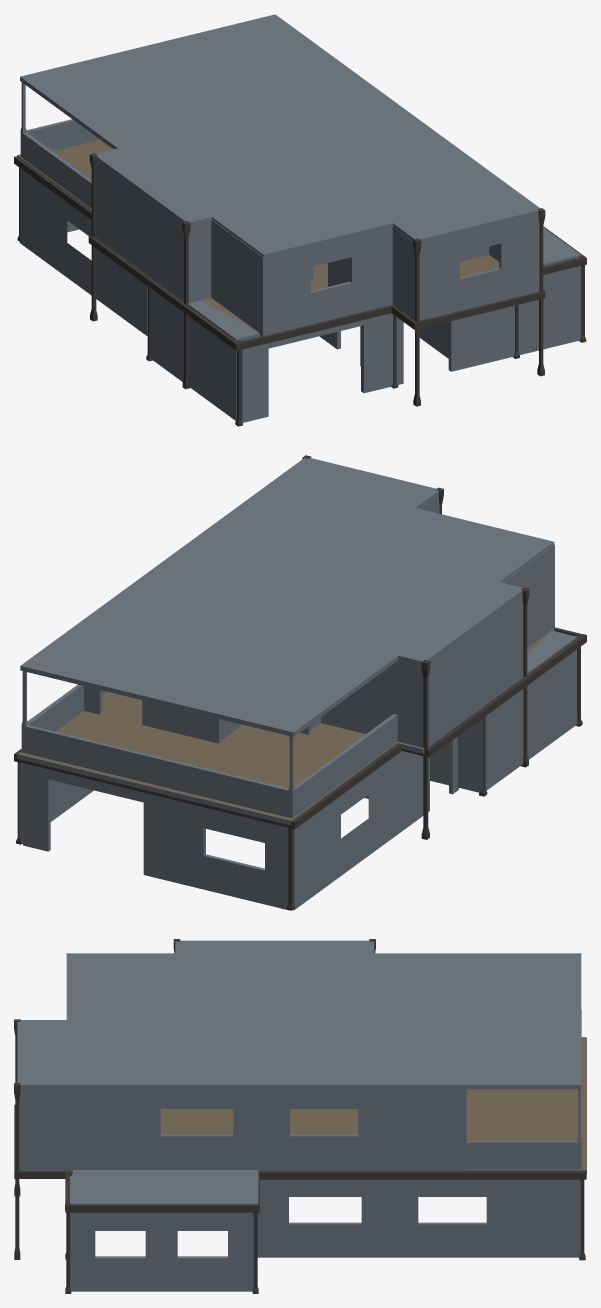
The model's file is BuildingSeparatedUPDATED.fbx.
3 renders of one model, top to bottom at view 1: azimuth 30°, elevation 25°; view 2: azimuth 150°, elevation 25°; view 3: azimuth 270°, elevation 25°, orthographic. The views are drawn at different scales.
Parts seen in each view (by area): view 1: Roof1, Wall_2_Doors, Wall_2_Windows4, Wall_2_Windows3, Wall_1_Window_1_Door, Wall7, Wall, Roof, Wall8, Balcony_Railing, Wall6, Wall11 (+10 smaller); view 2: Roof1, Roof, Wall_1_Window_1_Door1, Balcony_Railing, Wall_1_Window_1_Door, Wall7, Wall, Wall13, Wall8, Wall_1_Door2, Wall2, DecorativeBeam9 (+5 smaller); view 3: Roof1, Wall_2_Windows2, Wall_2_Windows1, Roof, Wall_2_Windows, Balcony_Railing, DecorativeBeam7, DecorativeBeam5, Support15.
Part boxes in pixels (left/top/right/bottom): Roof1: left=20, top=14, right=540, bottom=257; Wall_2_Doors: left=241, top=266, right=580, bottom=422; Wall_2_Windows4: left=266, top=227, right=392, bottom=335; Wall_2_Windows3: left=414, top=215, right=539, bottom=320; Wall_1_Window_1_Door: left=20, top=168, right=147, bottom=335; Wall7: left=95, top=160, right=183, bottom=300; Wall: left=150, top=288, right=236, bottom=420; Roof: left=17, top=139, right=581, bottom=340; Wall8: left=211, top=219, right=266, bottom=336; Balcony_Railing: left=20, top=82, right=99, bottom=208; Wall6: left=188, top=221, right=211, bottom=302; Wall11: left=392, top=227, right=413, bottom=319; Roof1: left=20, top=458, right=554, bottom=736; Roof: left=17, top=630, right=577, bottom=825; Wall_1_Window_1_Door1: left=23, top=763, right=288, bottom=910; Balcony_Railing: left=21, top=671, right=397, bottom=818; Wall_1_Window_1_Door: left=293, top=737, right=458, bottom=910; Wall7: left=420, top=595, right=522, bottom=747; Wall: left=479, top=649, right=577, bottom=791; Wall13: left=321, top=660, right=420, bottom=747; Wall8: left=502, top=544, right=554, bottom=647; Wall_1_Door2: left=84, top=686, right=220, bottom=743; Wall2: left=430, top=721, right=479, bottom=792; DecorativeBeam9: left=428, top=634, right=586, bottom=756; Roof1: left=17, top=940, right=581, bottom=1089; Wall_2_Windows2: left=19, top=1088, right=462, bottom=1174; Wall_2_Windows1: left=257, top=1179, right=580, bottom=1257; Roof: left=72, top=1038, right=586, bottom=1204; Wall_2_Windows: left=70, top=1212, right=253, bottom=1291; Balcony_Railing: left=466, top=1010, right=581, bottom=1169; DecorativeBeam7: left=260, top=1171, right=586, bottom=1179; DecorativeBeam5: left=65, top=1204, right=259, bottom=1212; Support15: left=14, top=1083, right=20, bottom=1259.
Size of the model in its own units: 713 by 322 by 951.
